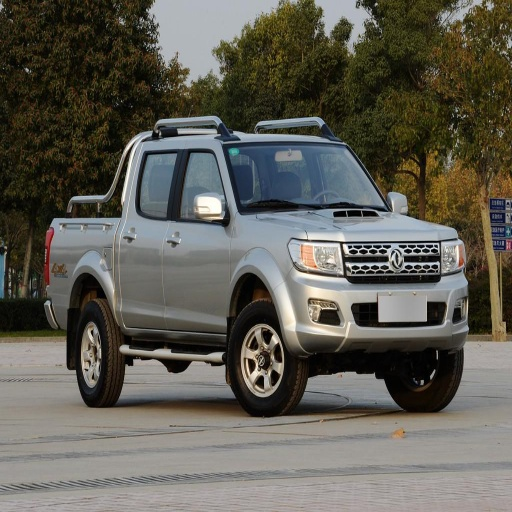front_bumper: (277, 240, 468, 354)
front_right_door: (164, 146, 228, 332)
front_right_light: (289, 238, 344, 276)
hood: (257, 212, 453, 238)
trunk: (45, 221, 115, 323)
